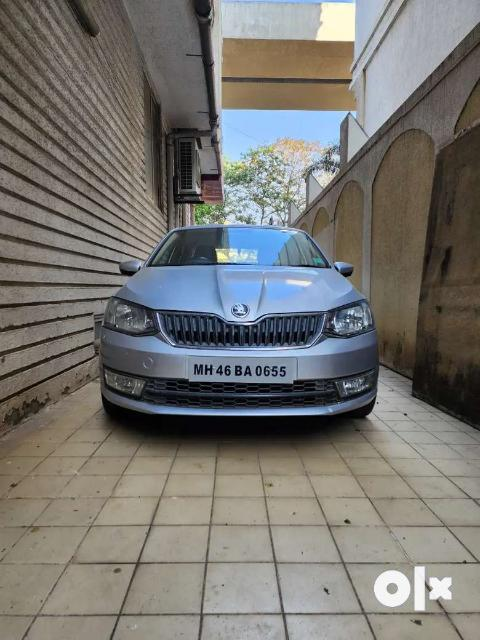Indian_Number_Plate: (190, 356, 294, 384)
